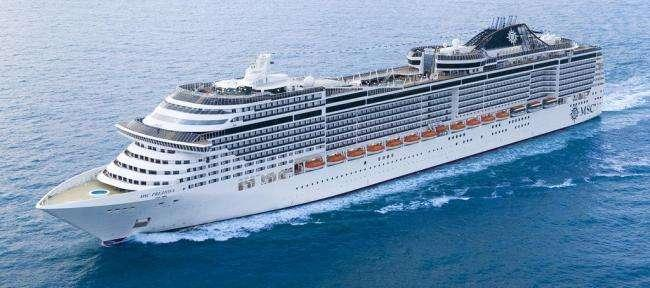youlun: (34, 16, 605, 252)
